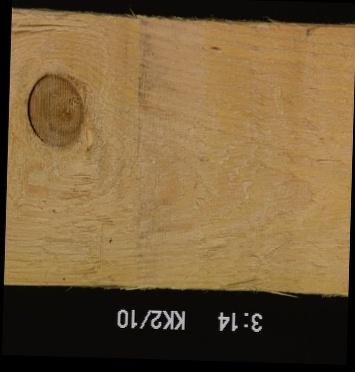dry_knot: (23, 72, 83, 147)
split: (13, 20, 86, 36)
